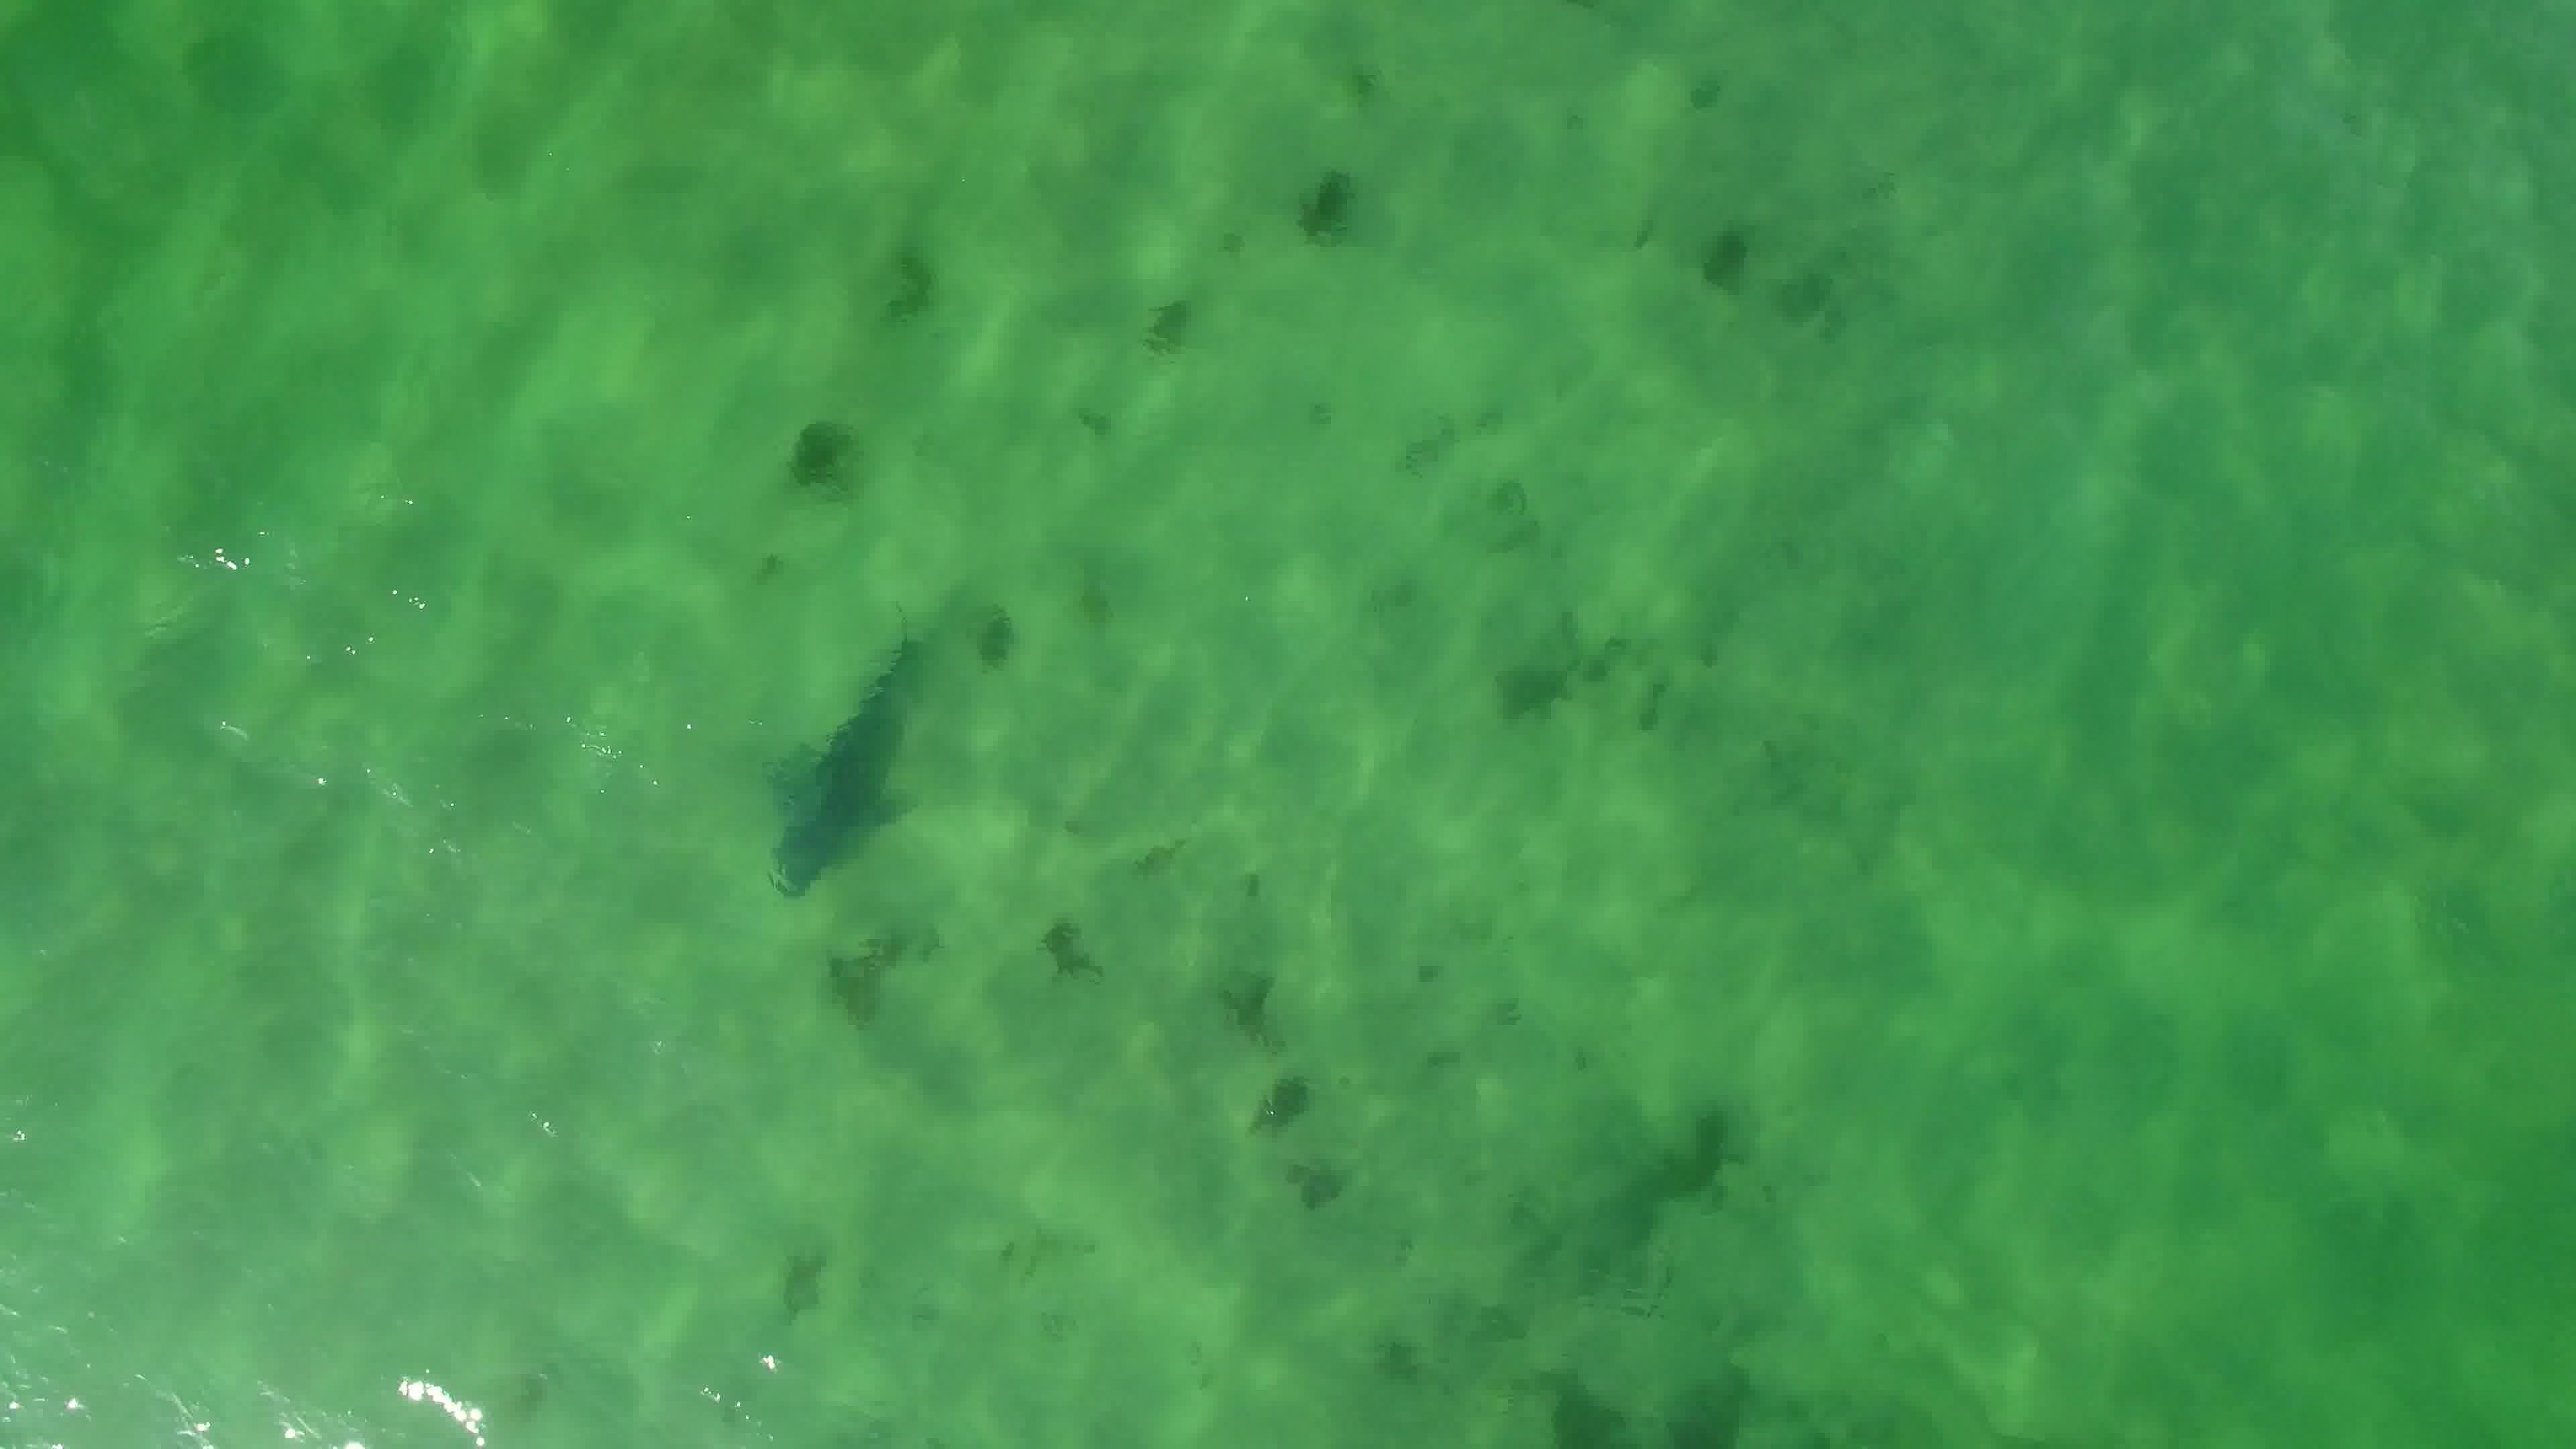shark: (750, 591, 922, 913)
